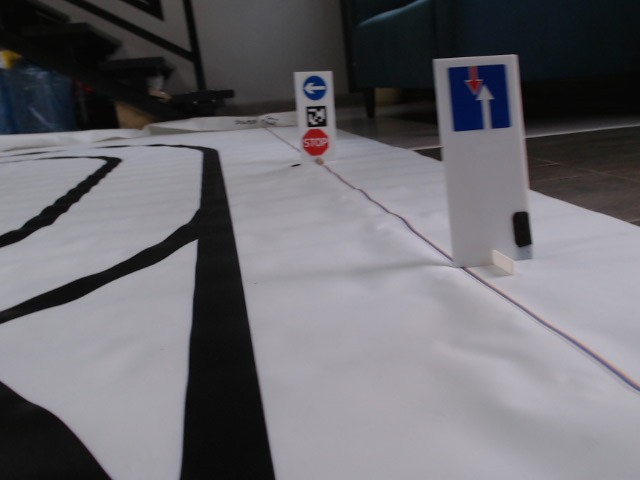Stop: (301, 127, 330, 156)
priority_movement: (444, 63, 515, 132)
